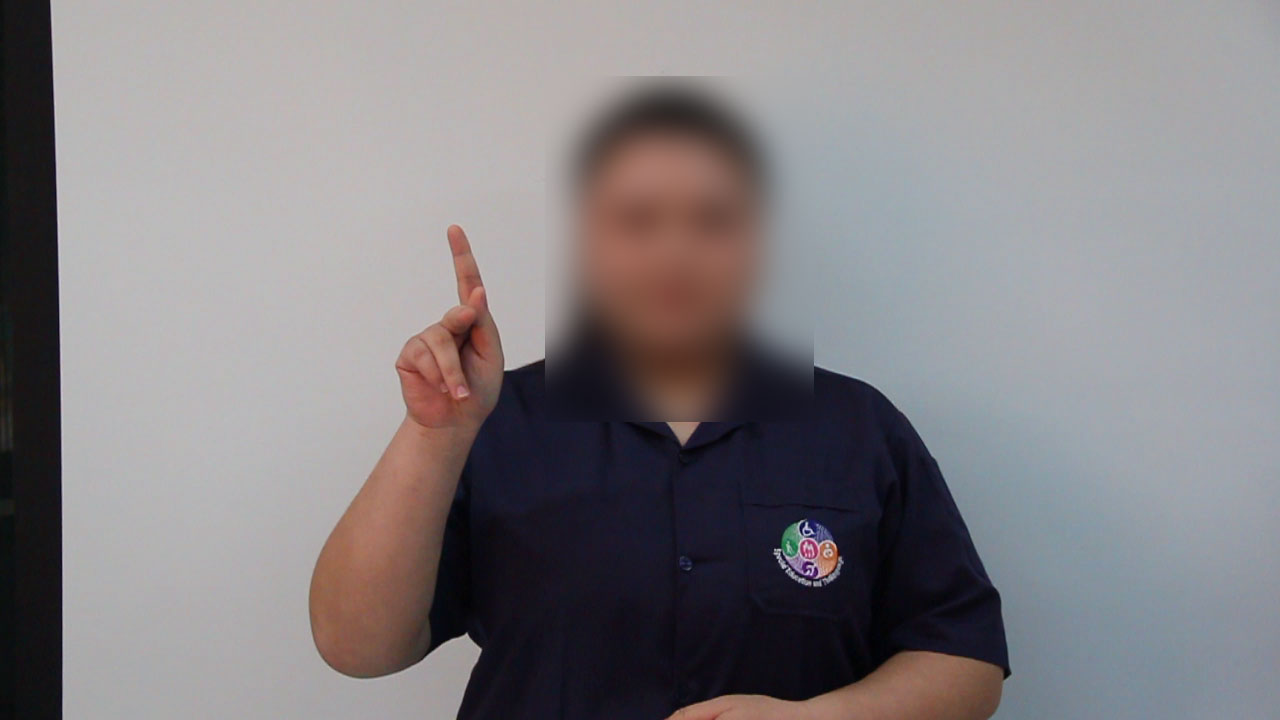ko: (381, 217, 522, 423)
